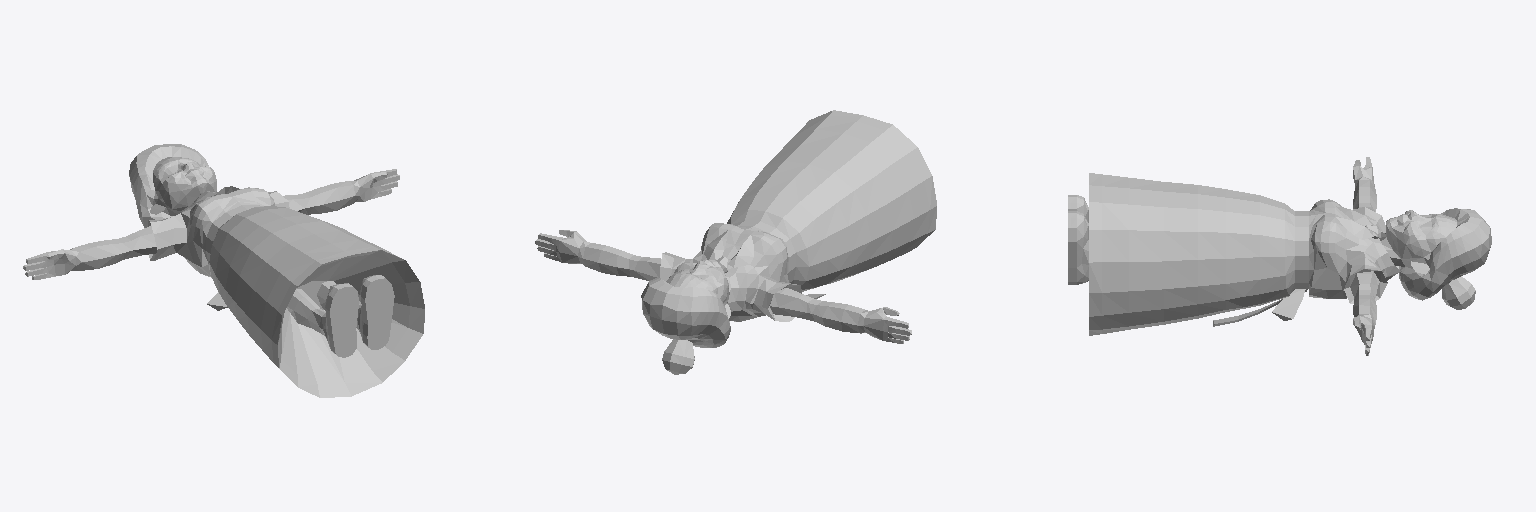
Rendered from Kairi's Grandma.obj.
3 renders of one model, left to right at view 1: azimuth 30°, elevation 25°; view 2: azimuth 150°, elevation 25°; view 3: azimuth 270°, elevation 25°, orthographic.
Visible parts, largest first — view 1: mesh4, mesh1, mesh3, mesh5, mesh2, mesh0; view 2: mesh4, mesh5, mesh2, mesh3, mesh0, mesh1; view 3: mesh4, mesh2, mesh3, mesh5, mesh0, mesh1.
Boxes of the visible parts, box(x1,y1,x2,y2) form: mesh4: box(148, 205, 399, 367); mesh1: box(139, 199, 424, 397); mesh3: box(129, 144, 394, 357); mesh5: box(23, 169, 399, 279); mesh2: box(149, 186, 289, 277); mesh0: box(153, 157, 216, 208); mesh4: box(727, 110, 936, 321); mesh5: box(535, 230, 911, 343); mesh2: box(660, 223, 825, 321); mesh3: box(641, 277, 729, 342); mesh0: box(666, 260, 728, 302); mesh1: box(662, 277, 730, 374); mesh4: box(1089, 173, 1387, 329); mesh2: box(1213, 199, 1401, 326); mesh3: box(1068, 195, 1491, 320); mesh5: box(1089, 157, 1379, 355); mesh0: box(1386, 210, 1456, 259); mesh1: box(1381, 238, 1475, 309).
Size of the model in its own units: 149 by 53.22 by 145.